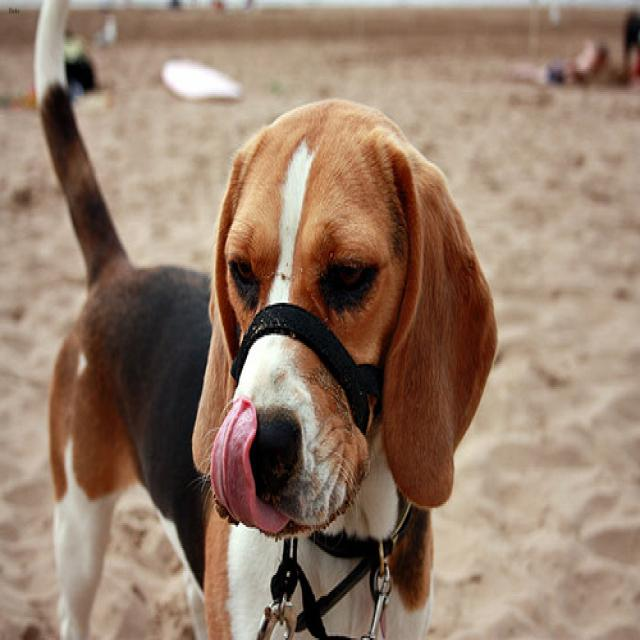dog-beagle: (20, 2, 517, 636)
